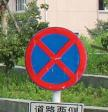No Parking: (24, 28, 87, 92)
